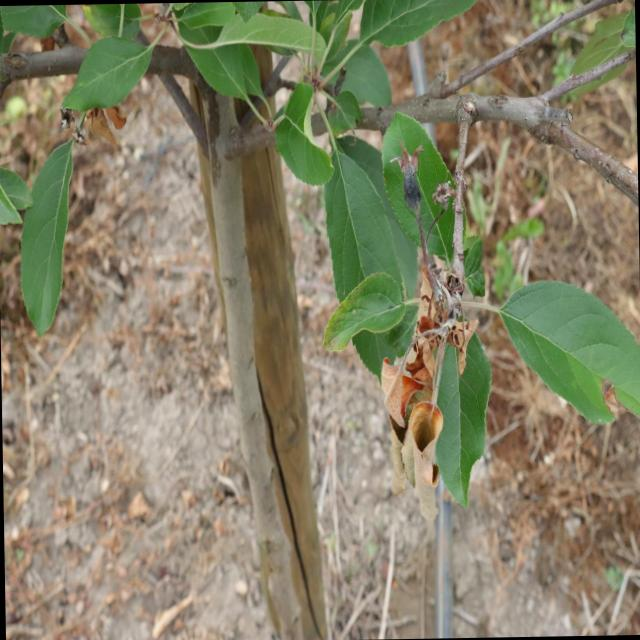-FireBlight-: (379, 260, 473, 466)
